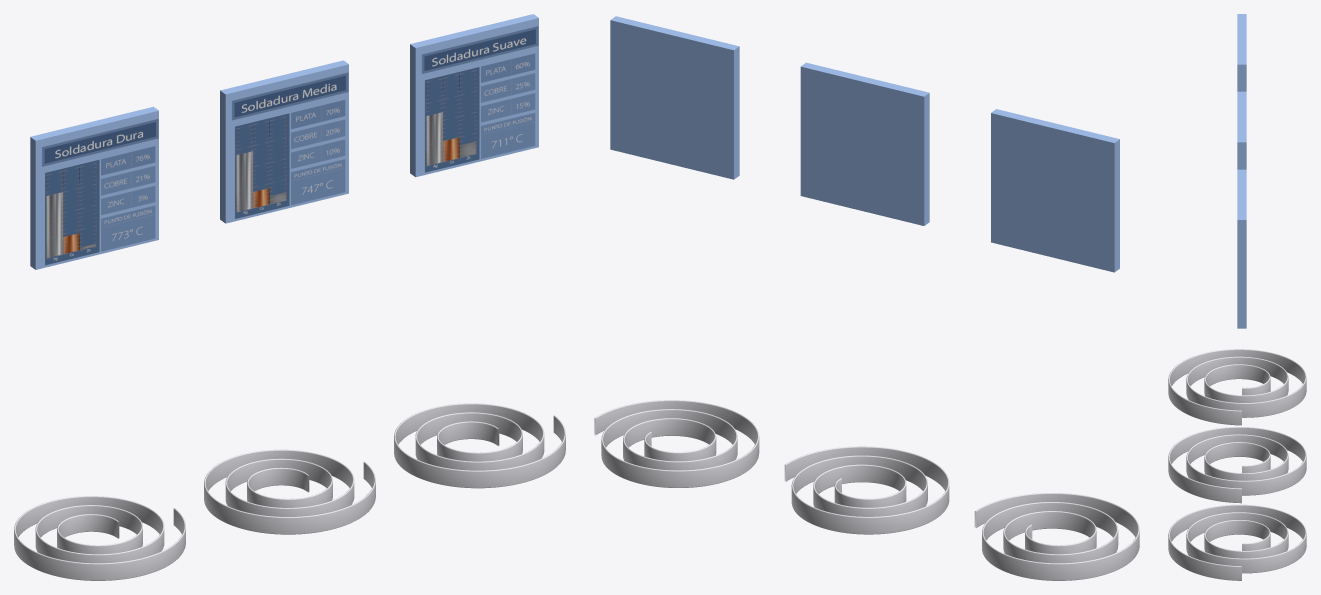
The model's file is Soldaduras.glb.
3 views of the same model, side by side, from view 1: azimuth 30°, elevation 25°; view 2: azimuth 150°, elevation 25°; view 3: azimuth 270°, elevation 25° (orthographic). The views are drawn at different scales.
Parts seen in each view (by area): view 1: espiral_100_Placa, espiral_85_Placa, espiral_70_Placa, espiral_85_PNG, espiral_100_PNG, espiral_70_PNG, espiral_70, espiral_85, espiral_100; view 2: espiral_70_Placa, espiral_85_Placa, espiral_100_Placa, espiral_85, espiral_70, espiral_100; view 3: espiral_100, espiral_70, espiral_85, espiral_70_Placa, espiral_85_Placa, espiral_100_Placa.
Part boxes in pixels (box(x1,y1,x2,y2)): espiral_100_Placa: box(30, 106, 158, 269); espiral_85_Placa: box(220, 60, 348, 223); espiral_70_Placa: box(410, 14, 538, 177); espiral_85_PNG: box(232, 72, 348, 218); espiral_100_PNG: box(42, 119, 158, 265); espiral_70_PNG: box(422, 26, 538, 172); espiral_70: box(394, 403, 565, 488); espiral_85: box(204, 449, 375, 534); espiral_100: box(14, 496, 185, 580); espiral_70_Placa: box(610, 16, 739, 179); espiral_85_Placa: box(800, 62, 929, 225); espiral_100_Placa: box(991, 109, 1119, 272); espiral_85: box(784, 446, 949, 534); espiral_70: box(594, 400, 759, 487); espiral_100: box(974, 493, 1139, 580); espiral_100: box(1168, 349, 1306, 425); espiral_70: box(1168, 504, 1306, 580); espiral_85: box(1168, 427, 1306, 503); espiral_70_Placa: box(1237, 169, 1246, 328); espiral_85_Placa: box(1237, 91, 1246, 169); espiral_100_Placa: box(1237, 14, 1246, 91).
Size of the model in its own units: 0.14 by 0.1059 by 0.0375.
Materials: 9 (3 with a texture image).
